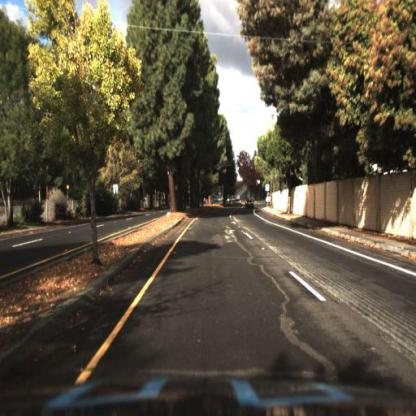car: (241, 195, 257, 212)
